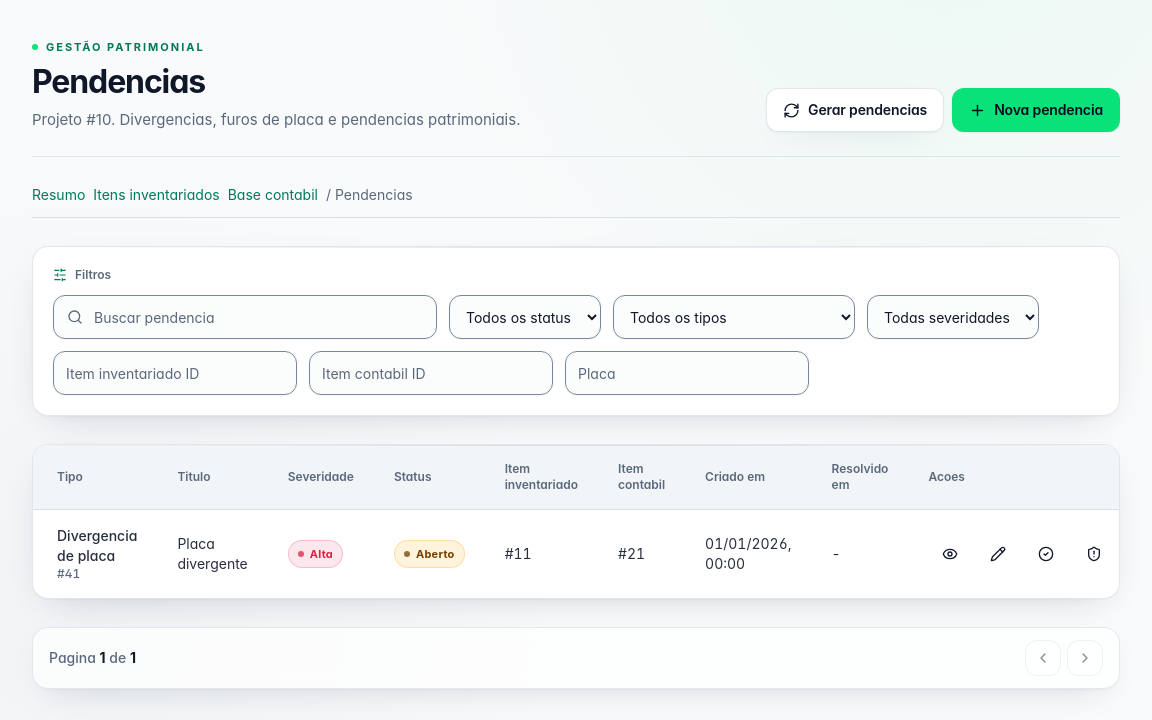
Test: ProjectPendingIssuesPage › detalhe renderiza dados principais
Click the button named "Visualizar pendencia": (950, 554) 928,532 -> 972,576
(page scrolled)
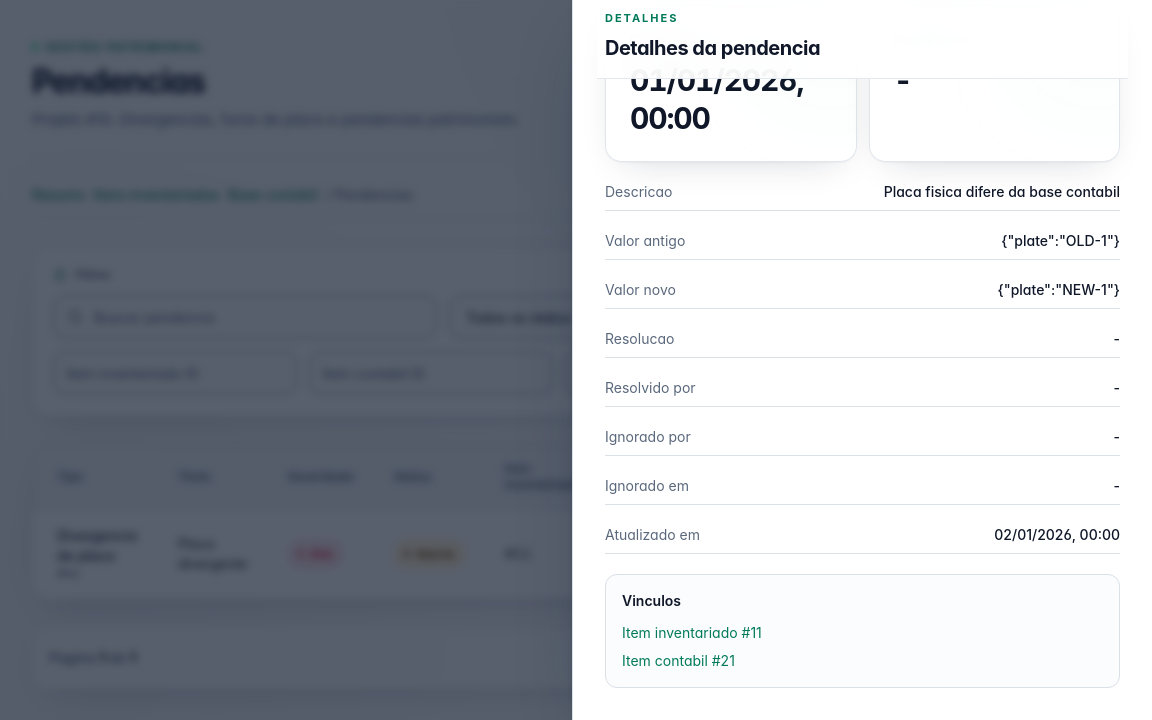
expect the link "Item inventariado #11" is shown: met, box 622,624 -> 762,641
